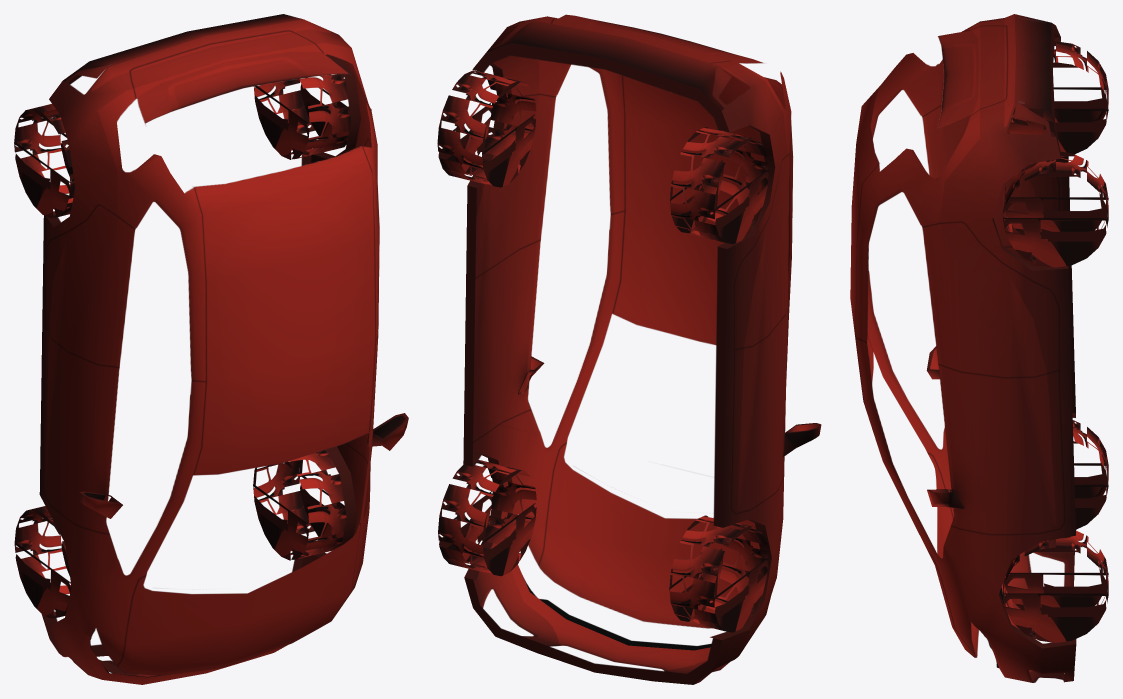
Rendered from hatchback.glb.
The picture shows the model from 3 angles, left to right: view 1: azimuth 30°, elevation 25°; view 2: azimuth 150°, elevation 25°; view 3: azimuth 270°, elevation 25°; orthographic projection. The views are drawn at different scales.
Visible parts, largest first — view 1: Hatchback, Wheels_Rear, Wheel_Front_Right, Wheel_Front_Left_; view 2: Hatchback, Wheels_Rear, Wheel_Front_Right, Wheel_Front_Left_; view 3: Hatchback, Wheels_Rear, Wheel_Front_Right, Wheel_Front_Left_.
Part boxes in pixels (bbox=[...]): Hatchback: bbox=[39, 14, 408, 684]; Wheels_Rear: bbox=[14, 53, 350, 218]; Wheel_Front_Right: bbox=[253, 449, 346, 560]; Wheel_Front_Left_: bbox=[14, 506, 71, 618]; Hatchback: bbox=[463, 14, 821, 684]; Wheels_Rear: bbox=[437, 70, 768, 244]; Wheel_Front_Right: bbox=[438, 460, 536, 576]; Wheel_Front_Left_: bbox=[669, 515, 768, 632]; Hatchback: bbox=[850, 14, 1076, 682]; Wheels_Rear: bbox=[1003, 42, 1108, 267]; Wheel_Front_Right: bbox=[1003, 530, 1108, 642]; Wheel_Front_Left_: bbox=[1072, 420, 1108, 529].
Bounding box in the file's own units: 84.27 × 158 × 61.73.
1 material, 1 textured.
